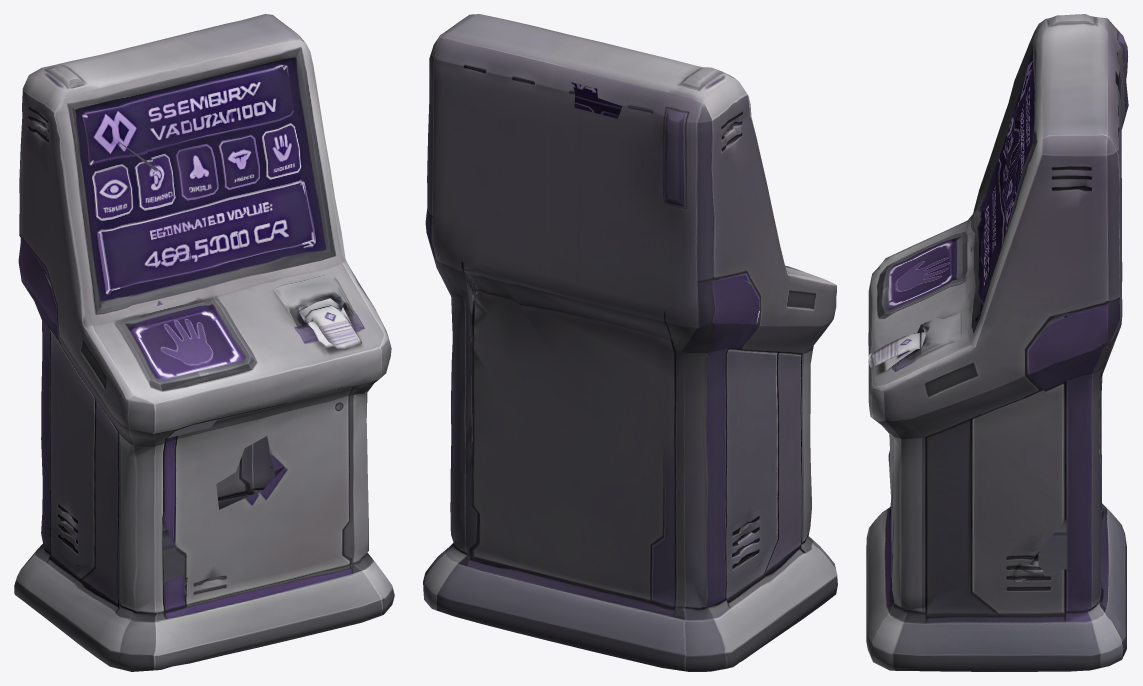
Rendered from tripo_convert_1d083be8-77a7-4089-a31a-93914d3dc896.fbx.
The picture shows the model from 3 angles, left to right: view 1: azimuth 30°, elevation 25°; view 2: azimuth 150°, elevation 25°; view 3: azimuth 270°, elevation 25°; orthographic projection. The views are drawn at different scales.
Parts seen in each view (by area): view 1: tripo_node_1d083be8; view 2: tripo_node_1d083be8; view 3: tripo_node_1d083be8.
Boxes of the visible parts, <box> form: tripo_node_1d083be8: <box>14,14,394,671</box>; tripo_node_1d083be8: <box>423,14,837,671</box>; tripo_node_1d083be8: <box>866,14,1128,671</box>.
Bounding box in the file's own units: 0.5497 × 0.9777 × 0.4318.
Materials: 1 (1 with a texture image).
